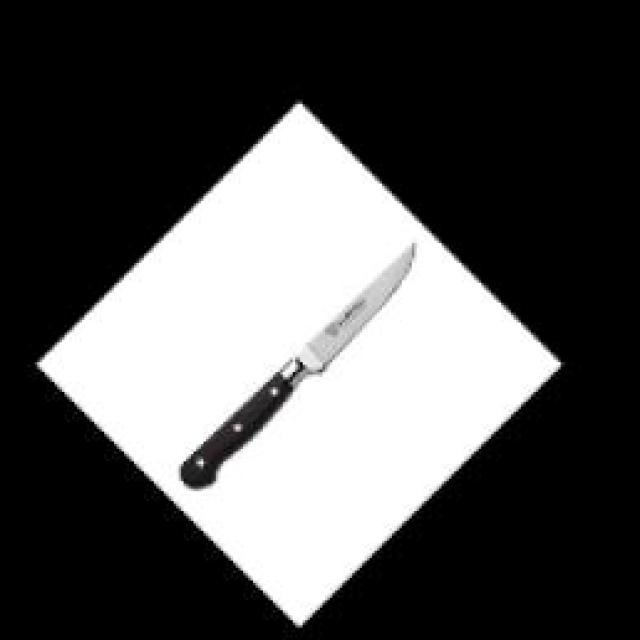knife: (168, 238, 432, 494)
